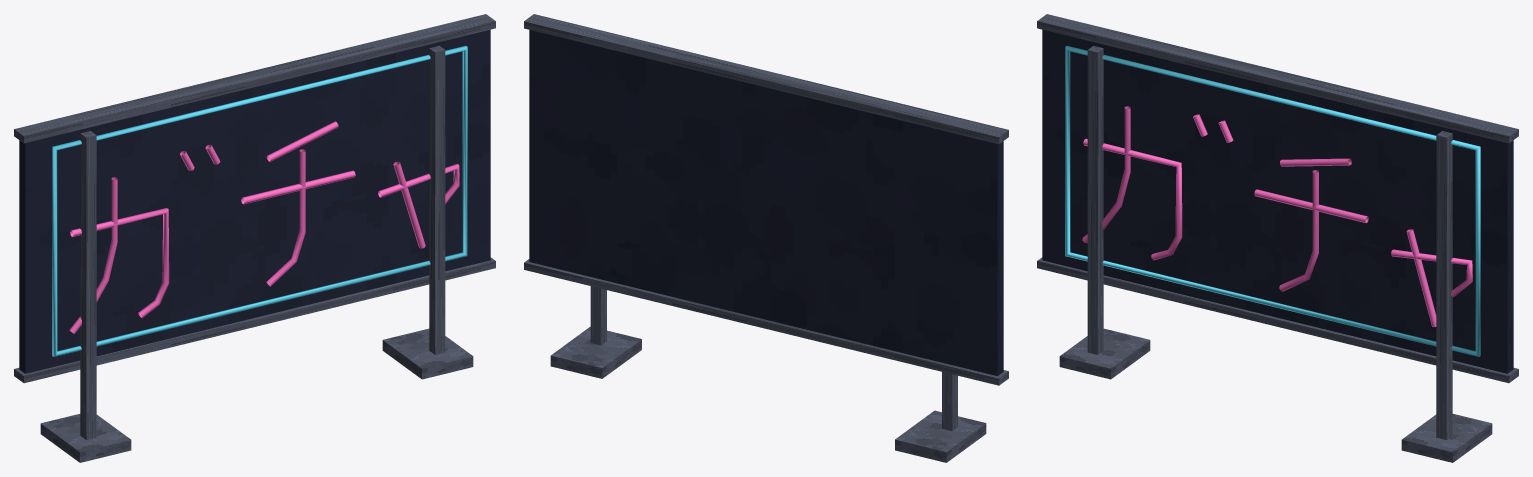
The model's file is neon_gacha_own.glb.
3 renders of one model, left to right at view 1: azimuth 30°, elevation 25°; view 2: azimuth 150°, elevation 25°; view 3: azimuth 330°, elevation 25°, orthographic.
Parts seen in each view (by area): view 1: Cube; view 2: Cube; view 3: Cube.
Boxes of the visible parts, box(x1,y1,x2,y2) form: Cube: box(14, 14, 495, 462); Cube: box(524, 14, 1008, 462); Cube: box(1037, 14, 1518, 462).
Size of the model in its own units: 1.38 by 0.905 by 0.2.
Materials: 4 (4 with a texture image).
